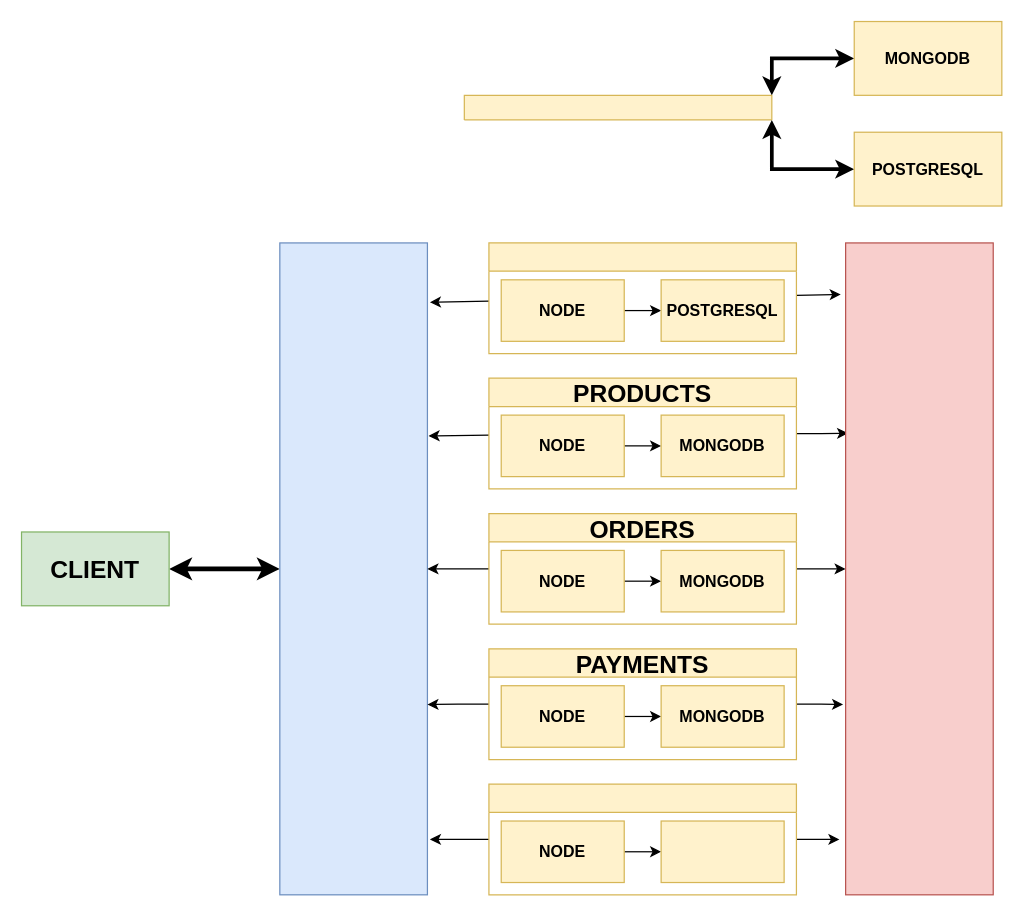
Some shapes in this 1023 by 916 pixel diagram are drawn without their labels. Here are the shapes that lost their labels. From the top down, the box of each, then its label:
(463, 94, 772, 120): ADMIN PANEL
(488, 242, 796, 354): USER
(279, 242, 427, 895): COMMON
(844, 242, 993, 895): APACHE KAFKA
(488, 783, 796, 895): EXPIRATION
(660, 820, 784, 883): REDIS
